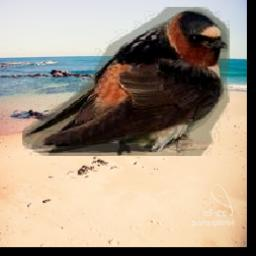Swallow: (21, 7, 229, 156)
